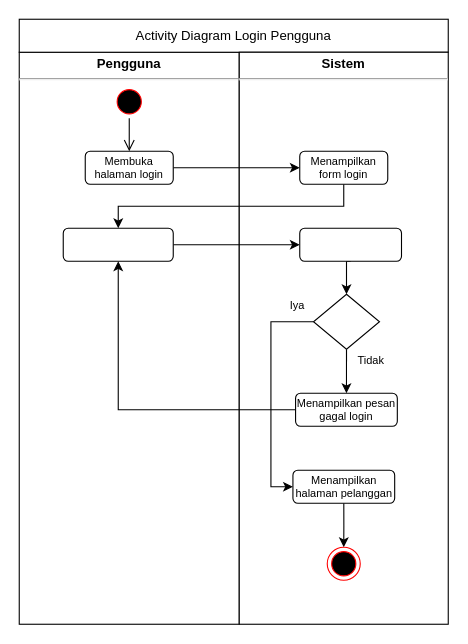
This 468x644 diagram has some shape labels left out. The centre of each missing label's shape, as x and y in pixels:
"Data Valid?" goes at point 346,321.
"Memvalidasi email dan password" goes at point 350,244.
"Menginputkan email dan password" goes at point 117,244.
